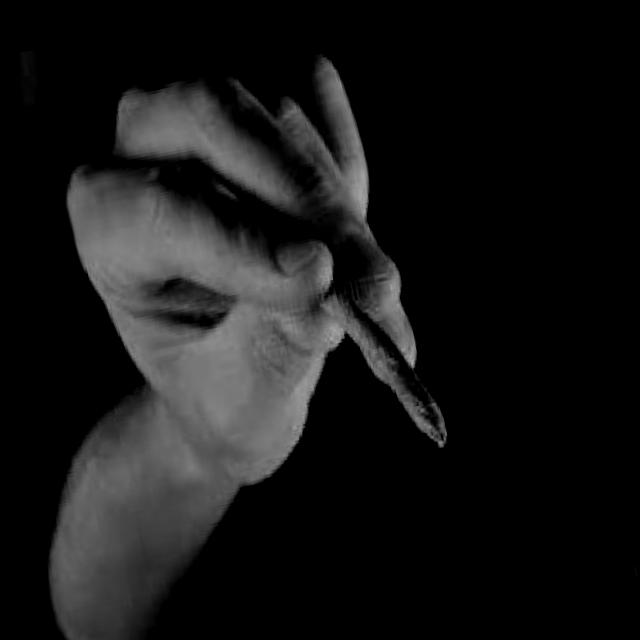smoke: (318, 260, 454, 472)
